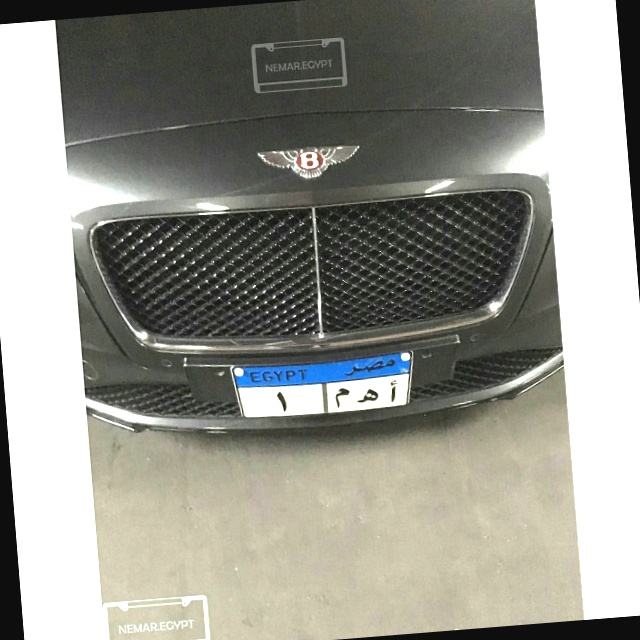License Plate: (228, 348, 419, 424)
